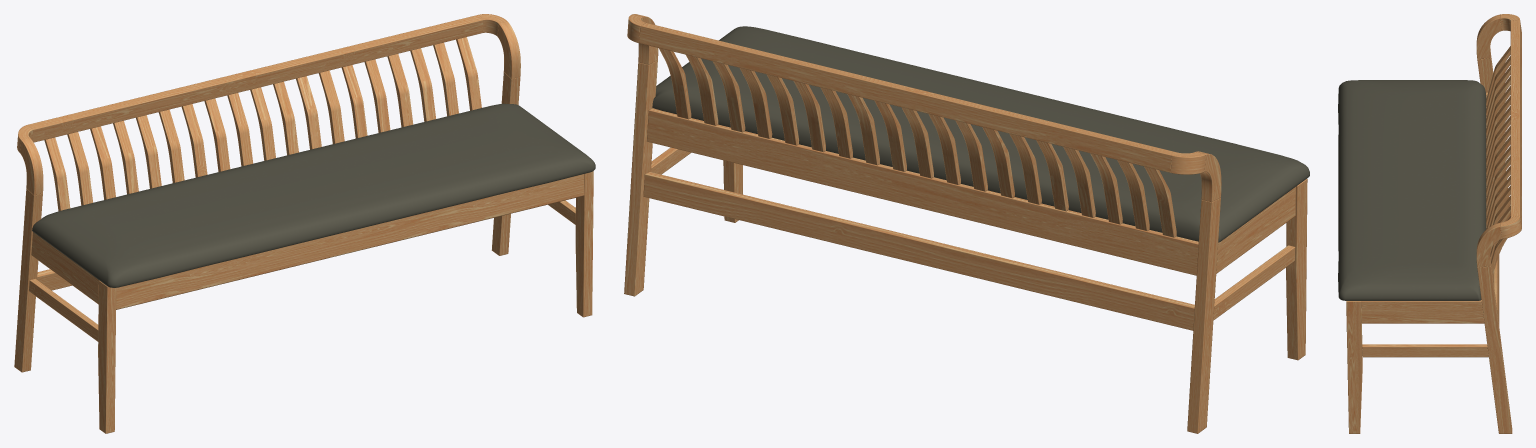
File: sofa5.glb
3 views of the same model, side by side, from view 1: azimuth 30°, elevation 25°; view 2: azimuth 150°, elevation 25°; view 3: azimuth 270°, elevation 25° (orthographic). The views are drawn at different scales.
Parts seen in each view (by area): view 1: 9468950; view 2: 9468950; view 3: 9468950.
Boxes of the visible parts, left/top/right/bottom form: 9468950: left=14, top=14, right=595, bottom=433; 9468950: left=624, top=14, right=1309, bottom=433; 9468950: left=1338, top=14, right=1521, bottom=433.
Bounding box in the file's own units: 1.37 × 0.63 × 0.5.
1 material, 1 textured.
